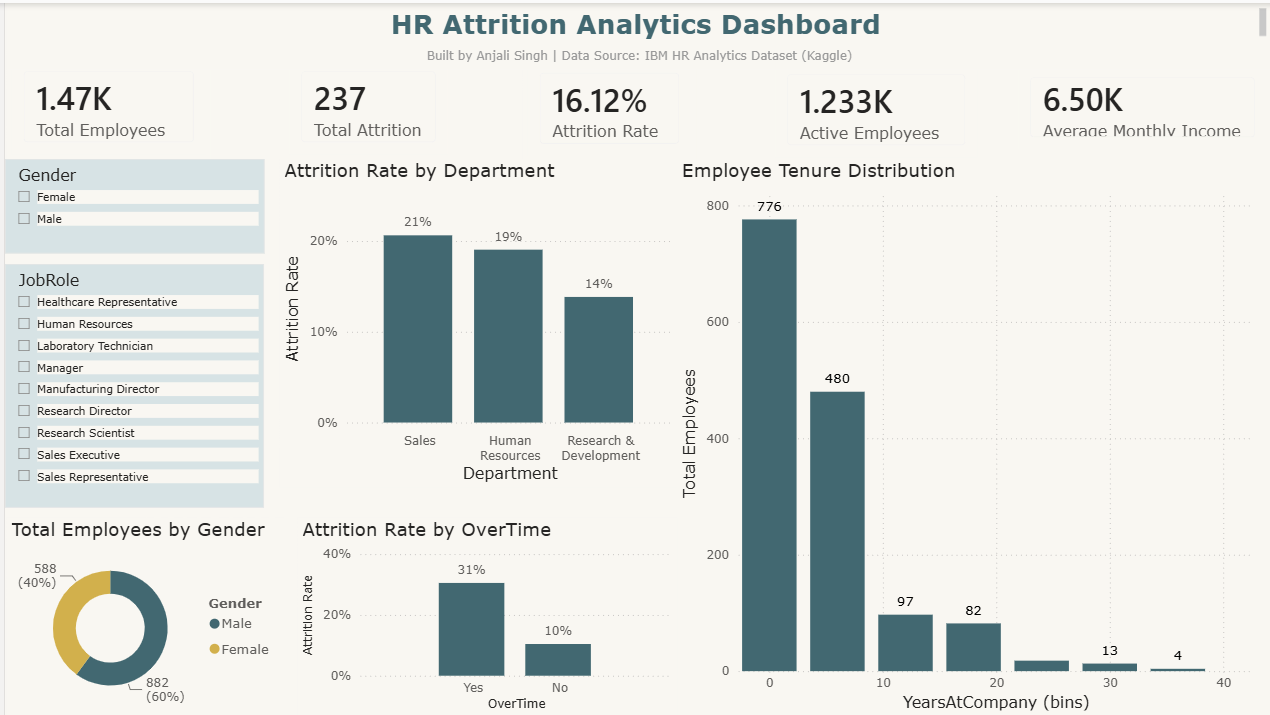

The page's visual inventory and layout, read from the dashboard file:
{"tool":"powerbi","page":{"name":"Page 1","canvas":[1280,720],"ordinal":0},"visuals":[{"type":"cardVisual","fields":{"Data":["Measures (2).Total Employees"]},"box":[1.5,50.8,206.3,106.2],"z":0},{"type":"cardVisual","fields":{"Data":["Measures (2).Total Attrition"]},"box":[281.8,50.8,170.9,106.2],"z":1000},{"type":"cardVisual","fields":{"Data":["Measures (2).Attrition Rate"]},"box":[522,52.3,175.5,106.2],"z":2000},{"type":"cardVisual","fields":{"Data":["Measures (2).Active Employees"]},"box":[772.9,53.9,214,106.2],"z":3000},{"type":"clusteredColumnChart","fields":{"Category":["HR_Attrition.Department"],"Y":["Measures (2).Attrition Rate"]},"box":[277.1,157,401.9,331],"z":4000},{"type":"clusteredColumnChart","title":"Employee Tenure Distribution","fields":{"Category":["HR_Attrition.YearsAtCompany (bins)"],"Y":["Measures (2).Total Employees"]},"box":[679,157,586.6,562],"z":5000},{"type":"slicer","fields":{"Values":["HR_Attrition.Gender"]},"box":[0,157,261.7,95.5],"z":6000},{"type":"slicer","fields":{"Values":["HR_Attrition.JobRole"]},"box":[0,262.8,261.5,245.8],"z":7000},{"type":"clusteredColumnChart","fields":{"Category":["HR_Attrition.OverTime"],"Y":["Measures (2).Attrition Rate"]},"box":[295.5,519.1,383.1,200.1],"z":8000},{"type":"cardVisual","fields":{"Data":["Measures (2).Average Monthly Income"]},"box":[1017.7,57,261.7,95.5],"z":9000},{"type":"donutChart","fields":{"Category":["HR_Attrition.Gender"],"Y":["Measures (2).Total Employees"]},"box":[1.3,519.1,279.8,200.1],"z":10000},{"type":"textbox","box":[1.5,0,1278,40],"z":11000},{"type":"textbox","box":[1.5,40,1278,27.7],"z":12000}]}

Visuals, with their boxes in screenshot pixels (x1, y1, x2, y2), scaled from the page's 1280x720 canvas onto the 1270x715 screenshot:
cardVisual - Measures (2).Total Employees: rect(1, 50, 206, 156)
cardVisual - Measures (2).Total Attrition: rect(280, 50, 449, 156)
cardVisual - Measures (2).Attrition Rate: rect(518, 52, 692, 157)
cardVisual - Measures (2).Active Employees: rect(767, 54, 979, 159)
clusteredColumnChart - HR_Attrition.Department x Measures (2).Attrition Rate: rect(275, 156, 674, 485)
"Employee Tenure Distribution" clusteredColumnChart: rect(674, 156, 1256, 714)
slicer - HR_Attrition.Gender: rect(0, 156, 260, 251)
slicer - HR_Attrition.JobRole: rect(0, 261, 259, 505)
clusteredColumnChart - HR_Attrition.OverTime x Measures (2).Attrition Rate: rect(293, 515, 673, 714)
cardVisual - Measures (2).Average Monthly Income: rect(1010, 57, 1269, 151)
donutChart - HR_Attrition.Gender x Measures (2).Total Employees: rect(1, 515, 279, 714)
textbox: rect(1, 0, 1269, 40)
textbox: rect(1, 40, 1269, 67)
